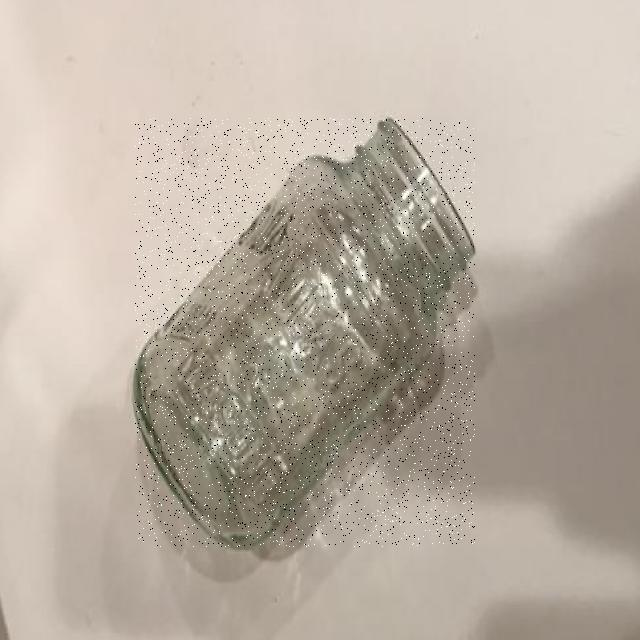glass: (136, 119, 475, 547)
